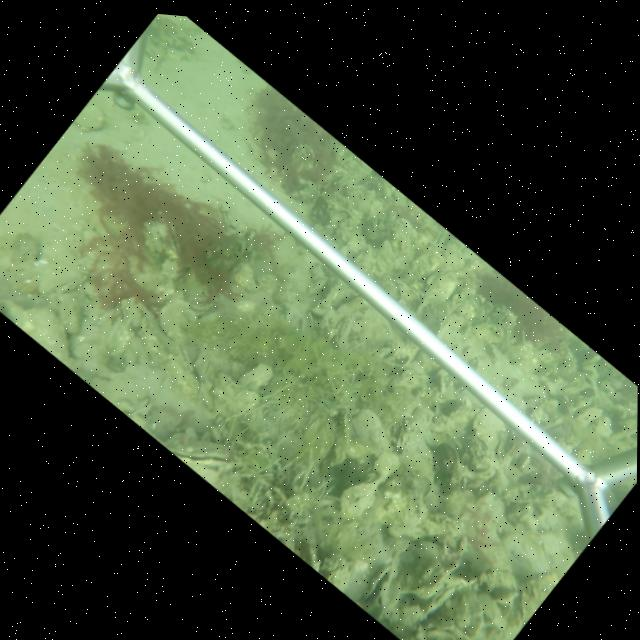Oyster-Closed: (162, 343, 201, 404), (35, 261, 83, 297), (336, 314, 354, 347), (307, 278, 327, 296)
Oyster-Indeterminate: (431, 439, 464, 496), (413, 291, 451, 337)
Oyster-Open: (161, 432, 237, 471), (359, 560, 397, 612)
